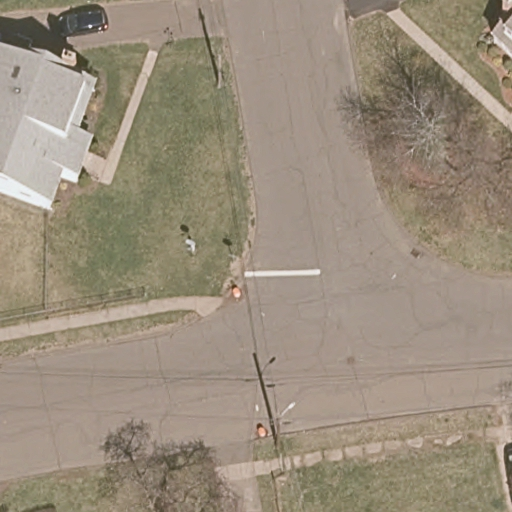DT: (264, 399, 296, 451)
